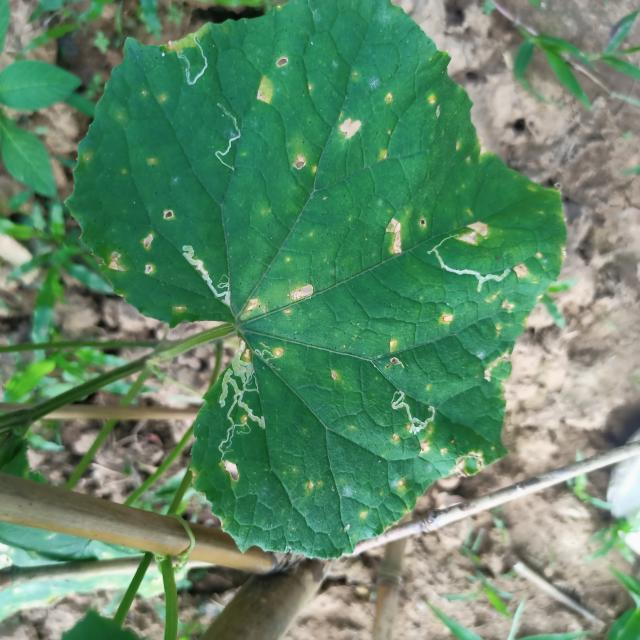disease_cucumber: (106, 203, 177, 277), (480, 290, 530, 382), (417, 430, 486, 480), (255, 50, 294, 106), (382, 210, 429, 254), (455, 206, 490, 249), (516, 248, 553, 286), (282, 277, 318, 314), (240, 293, 270, 321), (292, 149, 320, 177), (338, 112, 364, 142), (384, 338, 406, 368), (425, 91, 445, 120), (304, 476, 323, 496), (173, 299, 194, 315), (440, 309, 454, 325), (273, 343, 287, 358), (356, 506, 369, 521), (148, 155, 158, 166), (243, 348, 254, 358)
